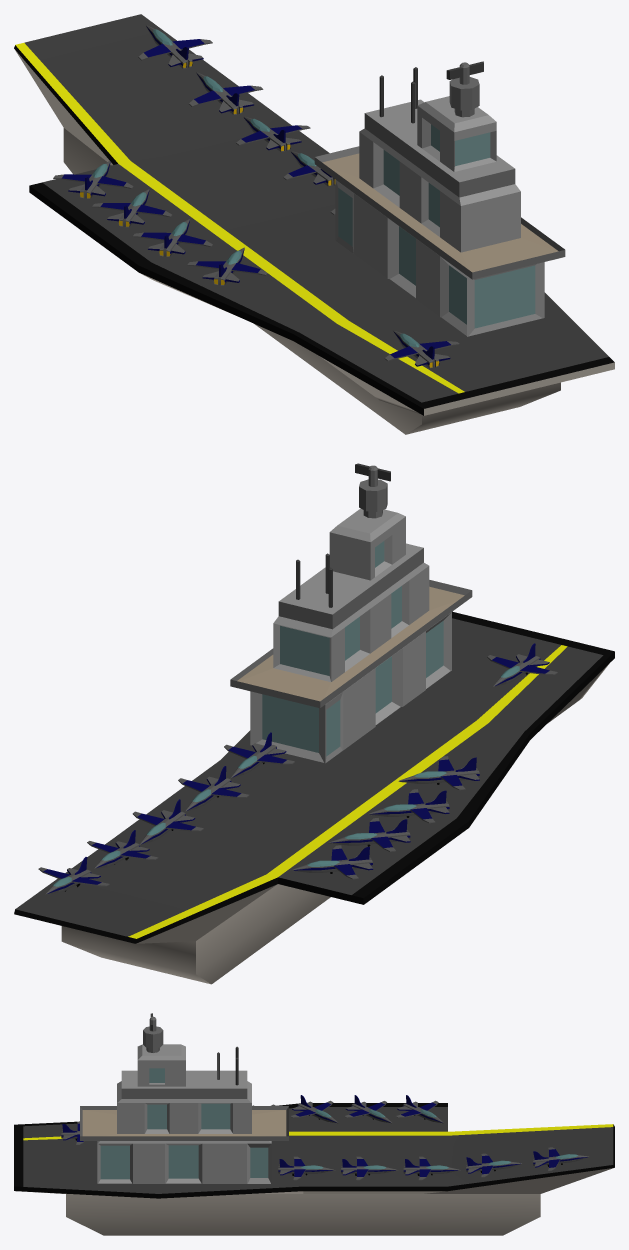
The model's file is AircraftCarrier.fbx.
3 views of the same model, one above another, from view 1: azimuth 30°, elevation 25°; view 2: azimuth 150°, elevation 25°; view 3: azimuth 270°, elevation 25° (orthographic). The views are drawn at different scales.
Parts seen in each view (by area): view 1: pCube1, pCube2, pCylinder1, pCube19, pCube10, pCube18, pCube11, pCube14, pCube16, pCube17, pCube15, pCube12; view 2: pCube1, pCube2, pCylinder1, pCube14, pCube16, pCube15, pCube17, pCube11, pCube13, pCube12, pCube18, pCube10 (+1 smaller); view 3: pCube1, pCube2, pCube11, pCube13, pCube12, pCube10, pCube19, pCube15, pCube16, pCube14, pCylinder1.
Part boxes in pixels (box(x1,y1,x2,y2)): pCube1: box(14, 14, 614, 434); pCube2: box(314, 96, 565, 336); pCylinder1: box(446, 61, 483, 117); pCube19: box(138, 24, 212, 68); pCube10: box(189, 72, 263, 114); pCube18: box(384, 330, 459, 368); pCube11: box(236, 116, 310, 151); pCube14: box(53, 161, 133, 198); pCube16: box(132, 219, 212, 256); pCube17: box(187, 247, 267, 285); pCube15: box(92, 189, 171, 227); pCube12: box(283, 151, 335, 186); pCube1: box(14, 611, 614, 984); pCube2: box(230, 508, 472, 763); pCylinder1: box(355, 463, 390, 518); pCube14: box(290, 845, 373, 879); pCube16: box(367, 789, 449, 823); pCube15: box(328, 818, 410, 851); pCube17: box(398, 756, 479, 790); pCube11: box(132, 799, 203, 844); pCube13: box(224, 732, 294, 778); pCube12: box(178, 766, 249, 811); pCube18: box(487, 643, 557, 686); pCube10: box(87, 830, 158, 868); pCube1: box(14, 1103, 614, 1235); pCube2: box(80, 1044, 288, 1183); pCube11: box(403, 1156, 460, 1180); pCube13: box(278, 1156, 335, 1180); pCube12: box(341, 1156, 397, 1180); pCube10: box(466, 1153, 522, 1177); pCube19: box(533, 1147, 589, 1170); pCube15: box(344, 1095, 392, 1123); pCube16: box(290, 1095, 338, 1123); pCube14: box(395, 1095, 443, 1123); pCylinder1: box(143, 1013, 163, 1052).
Bounding box in the file's own units: 10.53 × 11.45 × 29.38.
